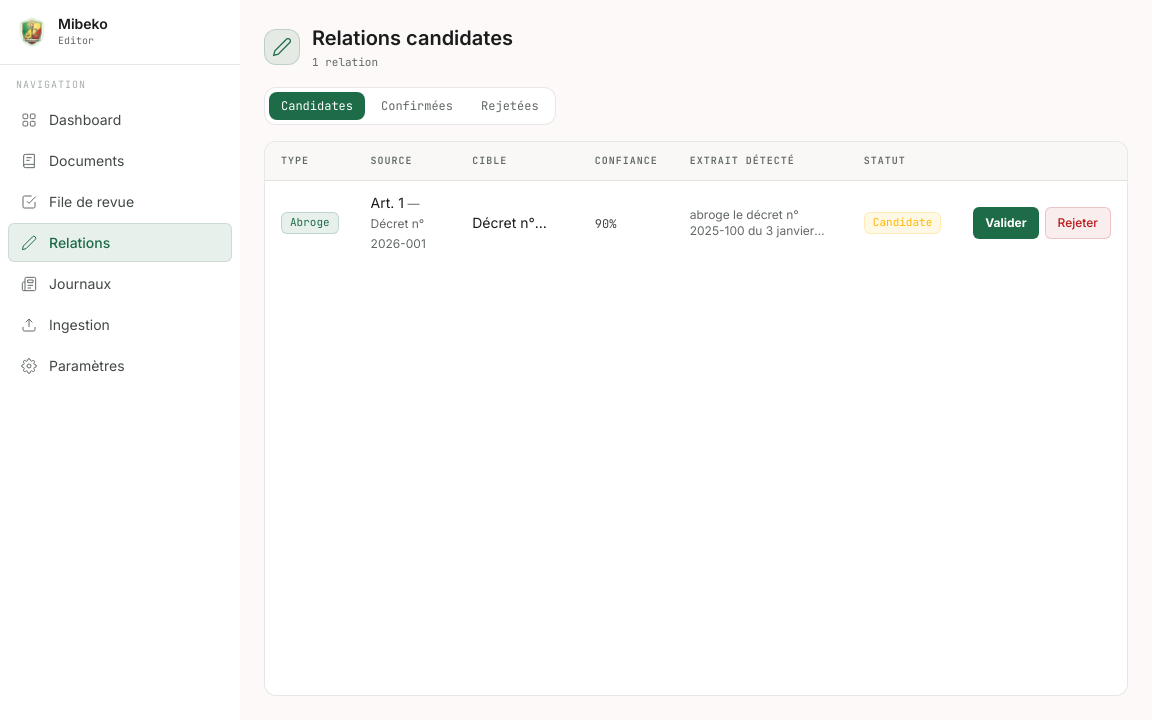
valide une relation candidate
Click the button "Valider".
click(1006, 223)  # box left=973, top=207, right=1039, bottom=239
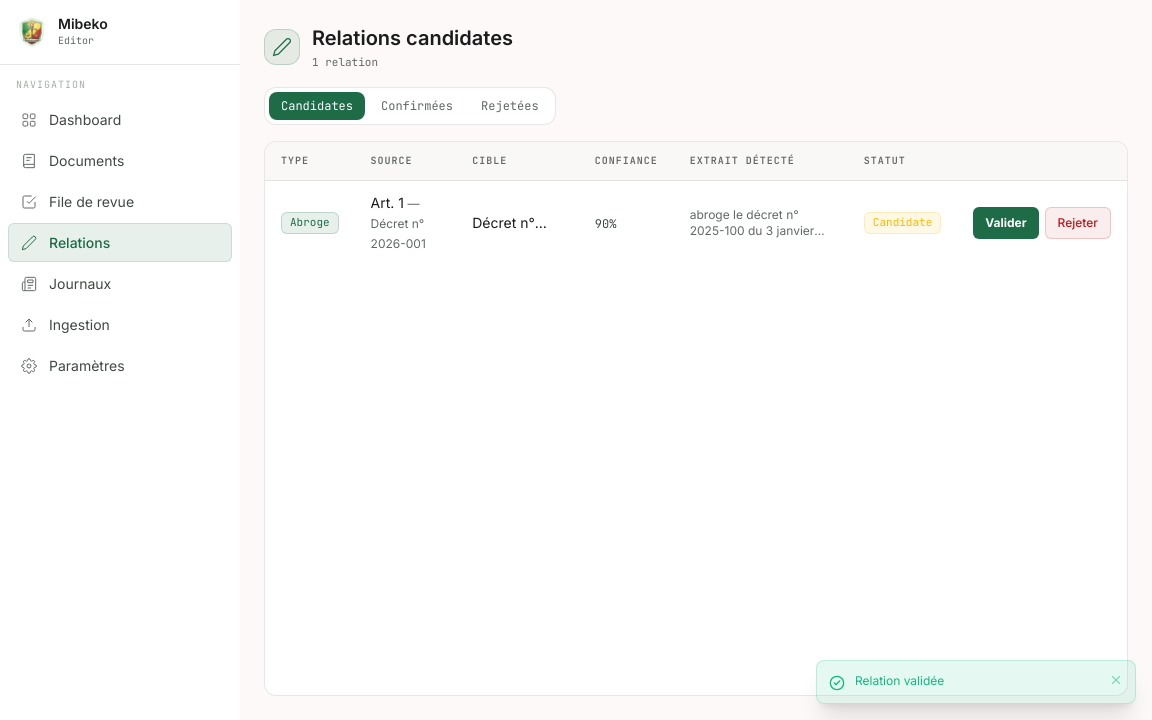
Expected: the text "Relation validée" is shown, left=855, top=673, right=944, bottom=688
